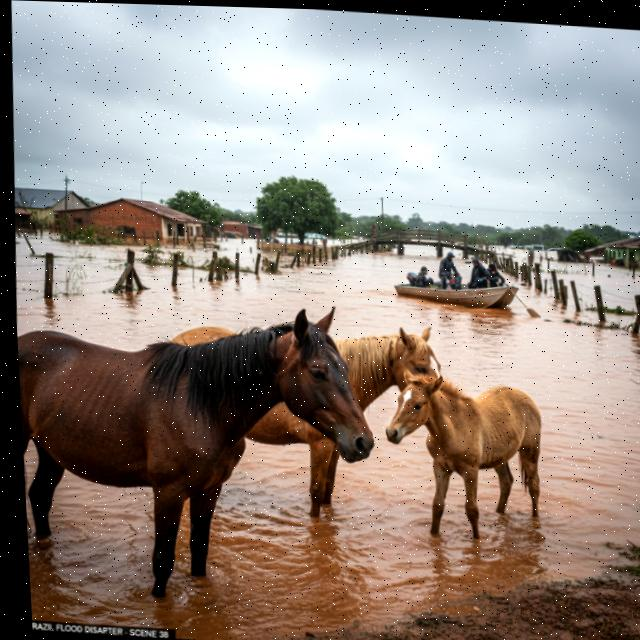civilian: (431, 251, 464, 291), (403, 258, 439, 293), (465, 253, 491, 294), (484, 261, 506, 288)
horse: (15, 285, 387, 605), (169, 308, 447, 537), (376, 353, 558, 546)
